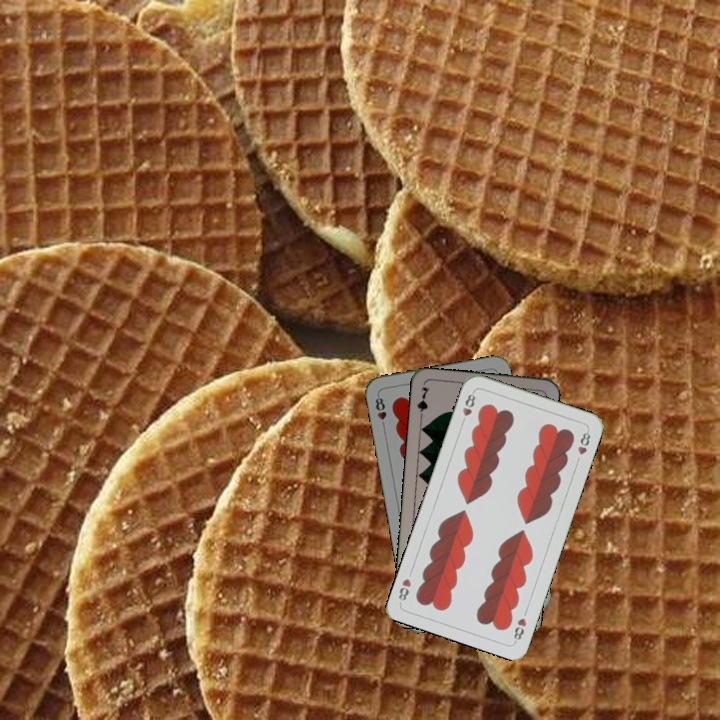G7: (413, 383, 432, 423)
H8: (458, 388, 478, 427), (371, 391, 389, 431), (510, 614, 529, 645)
